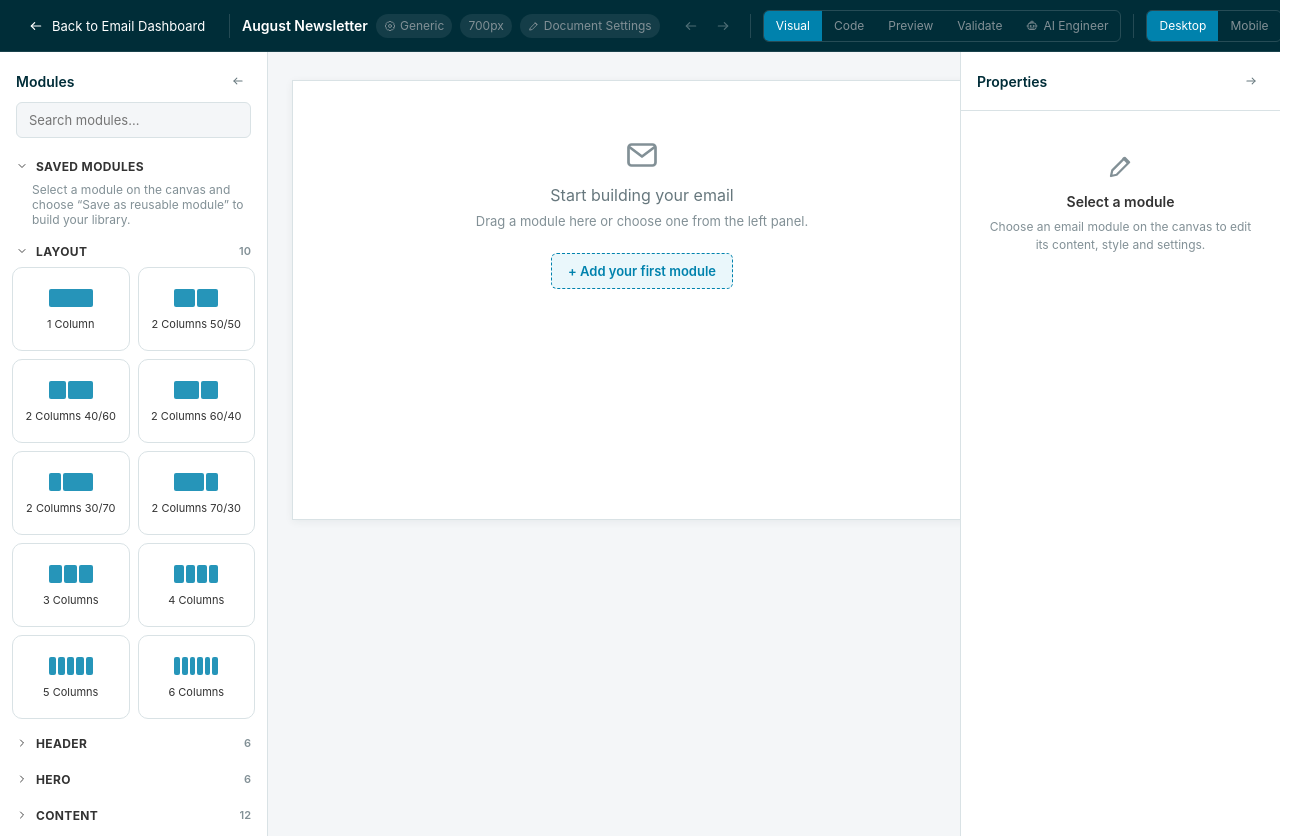
Test case: EmailBuilderWorkspacePage › clicking a module in the panel adds it to the canvas
Expected: the text "Start building your email" is shown, [550,185,734,205]
Click the button "Content 12": (134, 815) [12,799,255,831]
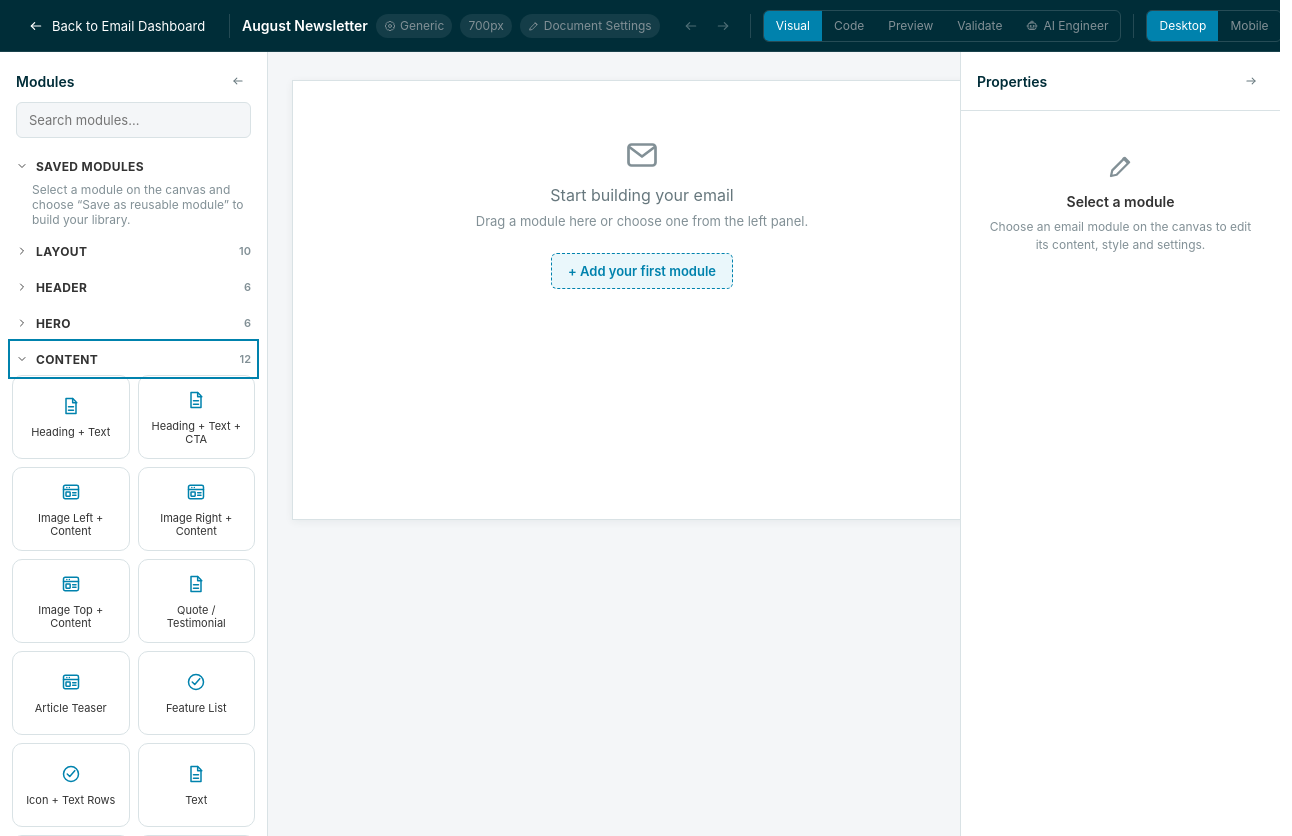
Click the button with aria-label "Add Text": (196, 785) [138,743,255,827]
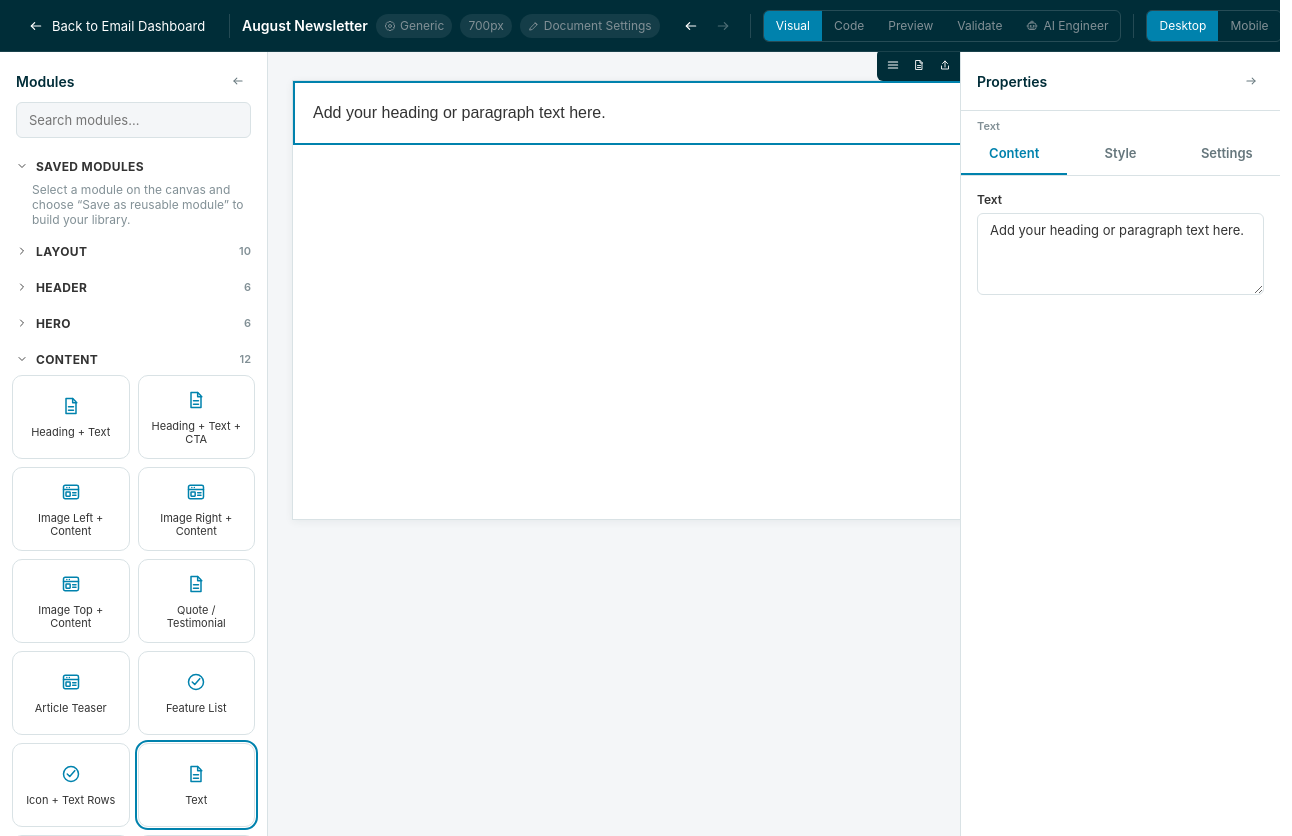
Now the text "Start building your email" is gone
Now the text "Add your heading or paragraph text here." is shown, box [313,104,606,121]
